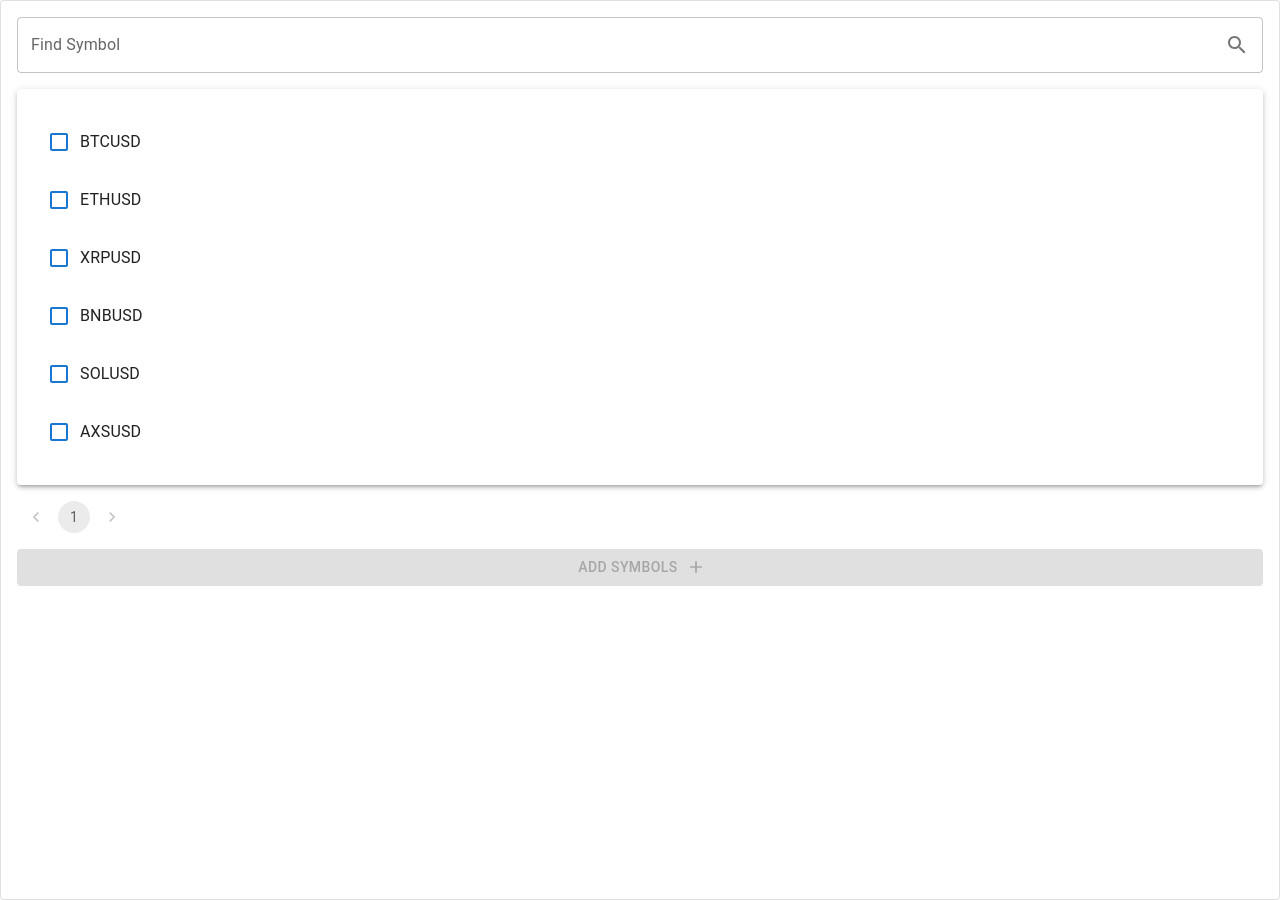
Test: SymbolList Component › deve limitar a selecao de simbolos ate 5
What coordinates should you click on to do the following:
click the checkbox labelled "BTCUSD"
I would click on:
 (94, 142)
Its box is [47,130,141,154].
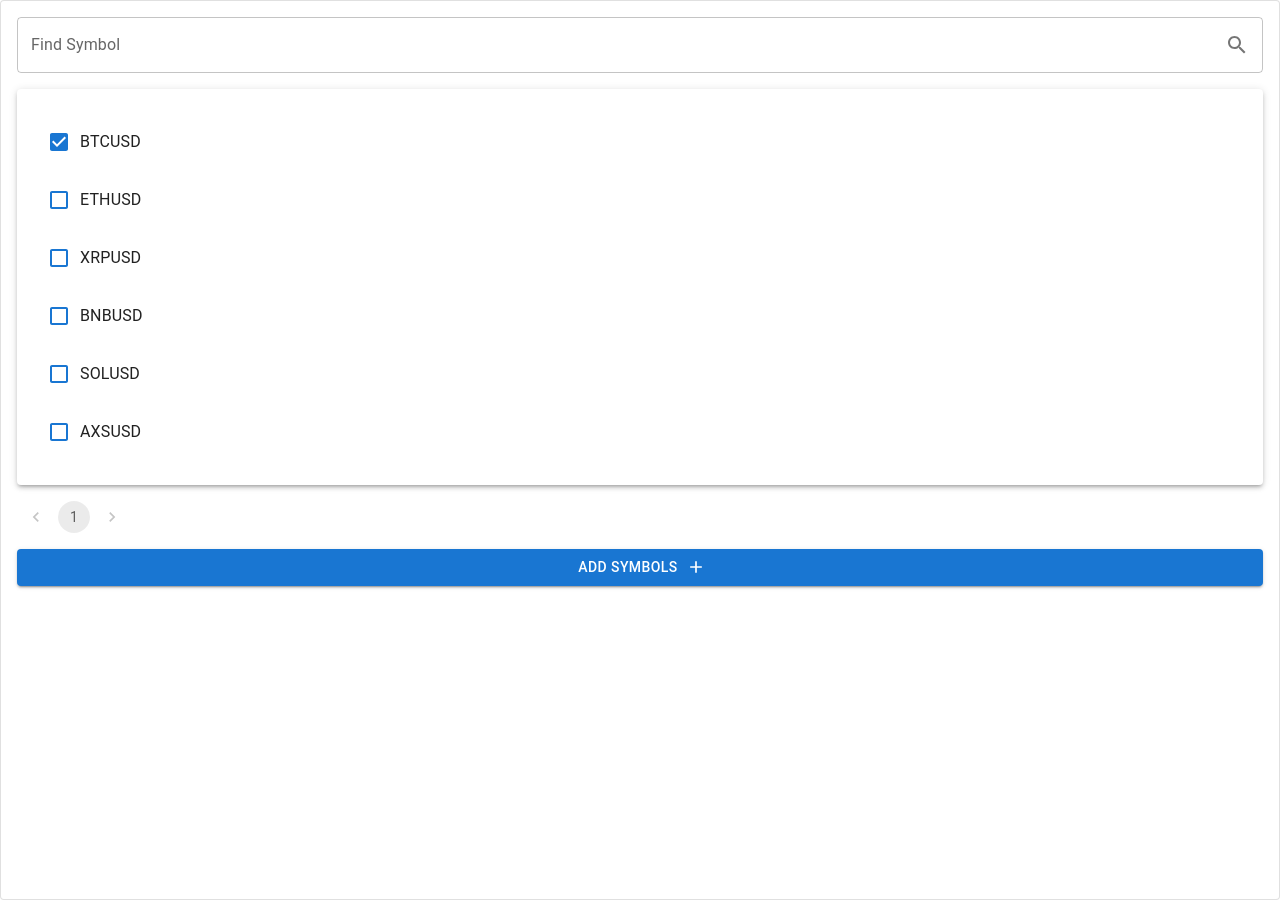
Result: the checkbox labelled "BTCUSD" is checked at [47,130,141,154]
What coordinates should you click on to do the following:
click the checkbox labelled "ETHUSD"
I would click on:
 (94, 200)
Its box is [47,188,142,212].
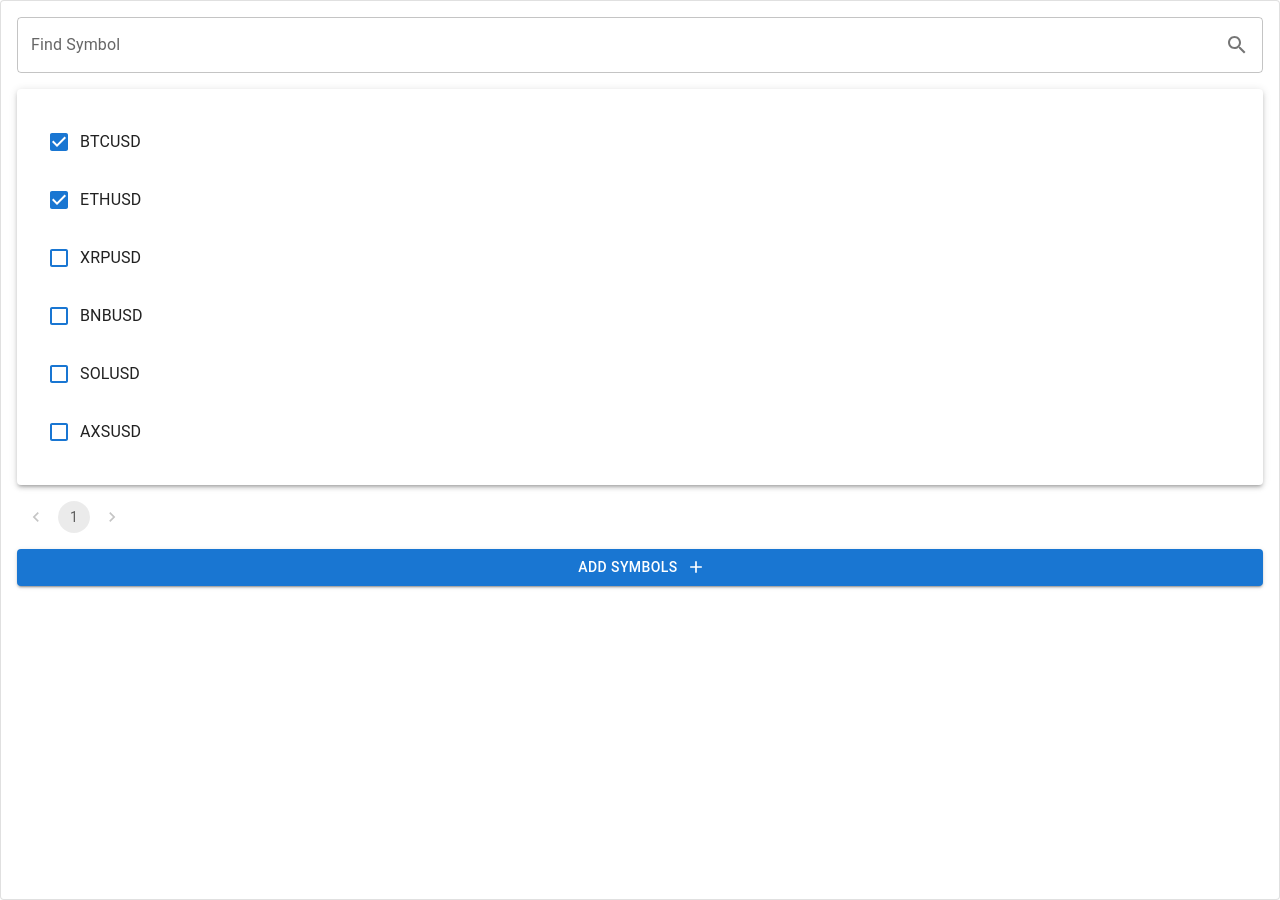
Result: the checkbox labelled "ETHUSD" is checked at [47,188,142,212]
What coordinates should you click on to do the following:
click the checkbox labelled "XRPUSD"
I would click on:
 (94, 258)
Its box is [47,246,141,270].
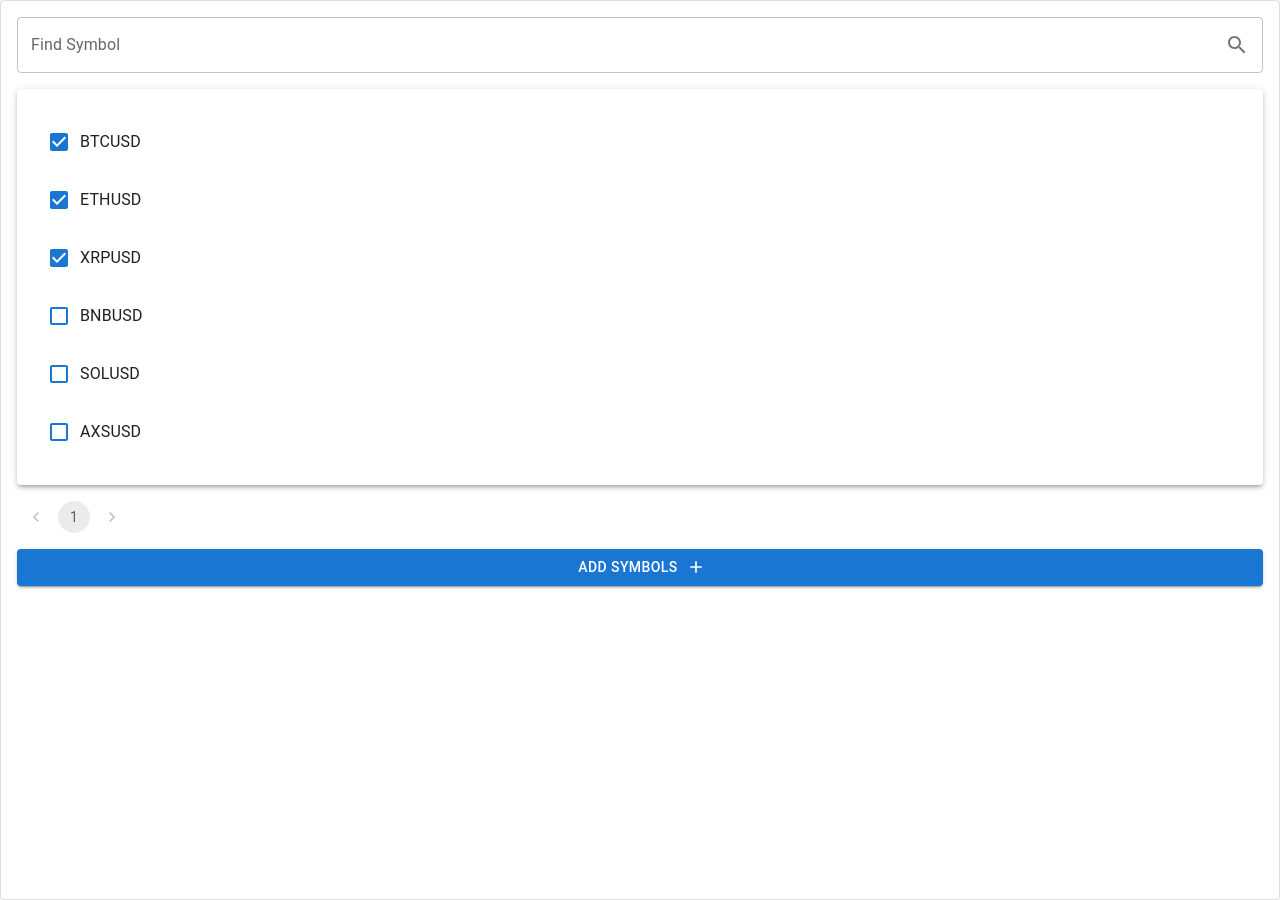
Result: the checkbox labelled "XRPUSD" is checked at [47,246,141,270]
What coordinates should you click on to do the following:
click the checkbox labelled "BNBUSD"
I would click on:
 (95, 316)
Its box is [47,304,143,328].
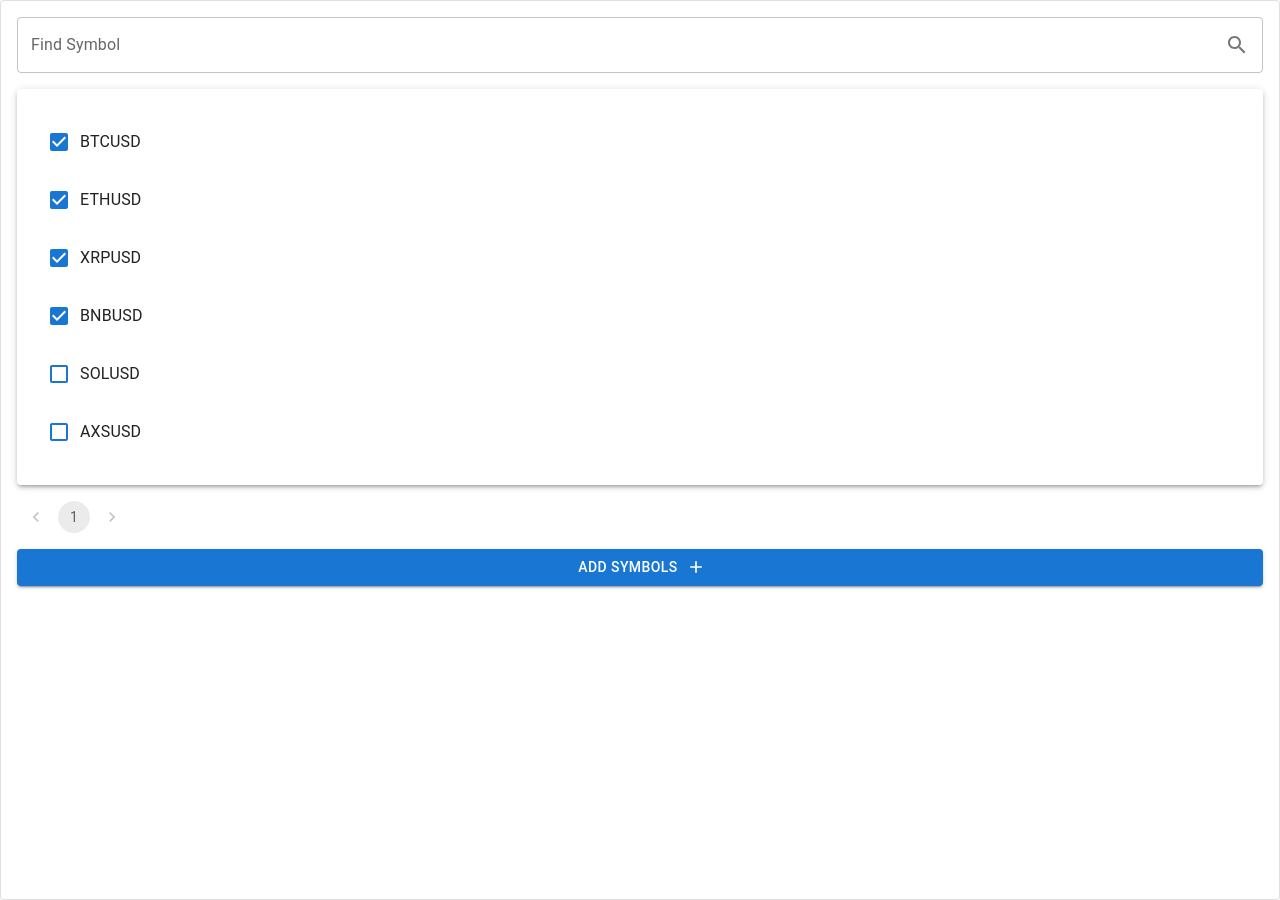
Result: the checkbox labelled "BNBUSD" is checked at [47,304,143,328]
What coordinates should you click on to do the following:
click the checkbox labelled "SOLUSD"
I would click on:
 (94, 374)
Its box is [47,362,140,386].
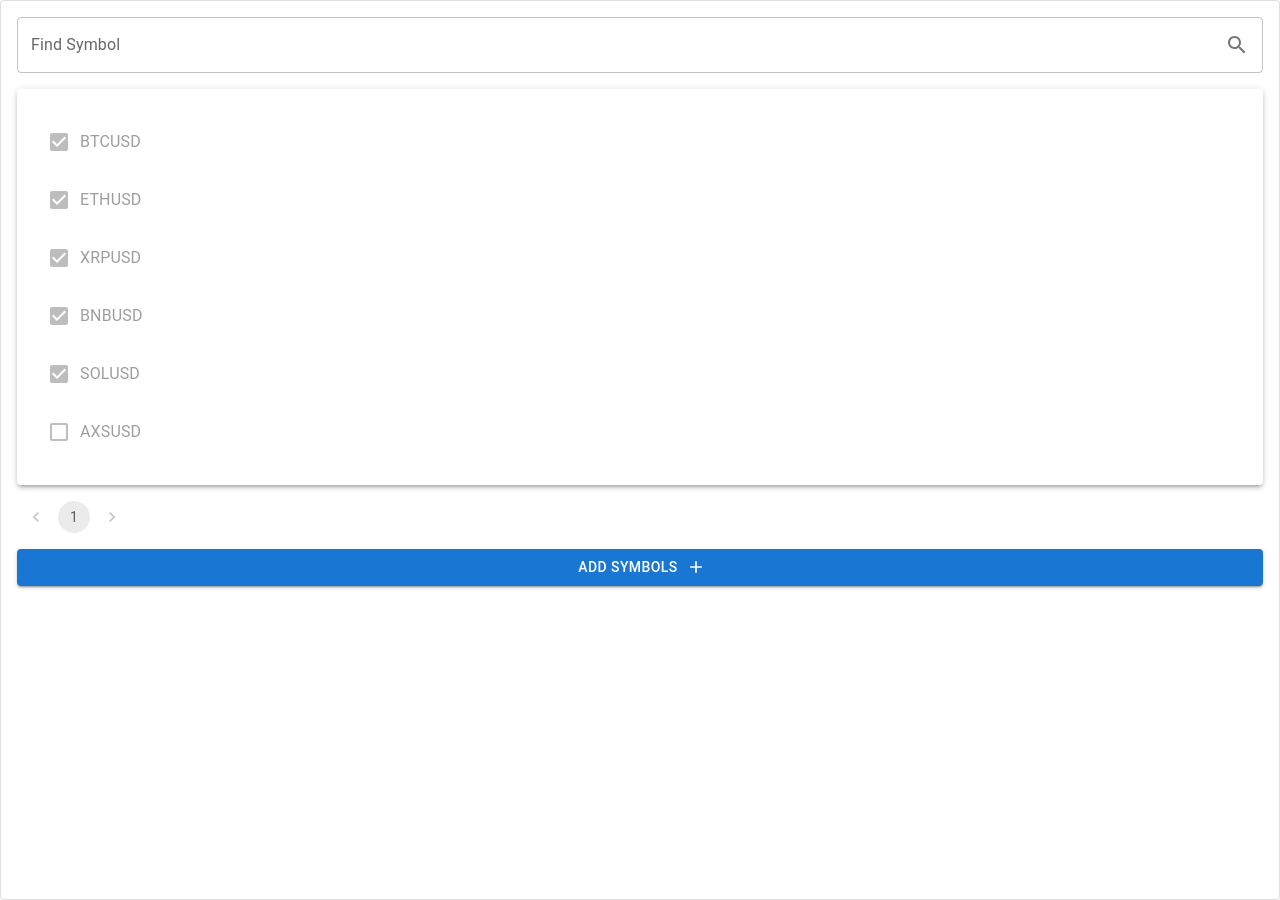
Result: the checkbox labelled "SOLUSD" is checked at [47,362,140,386]
Result: the checkbox labelled "SOLUSD" is disabled at [47,362,140,386]
